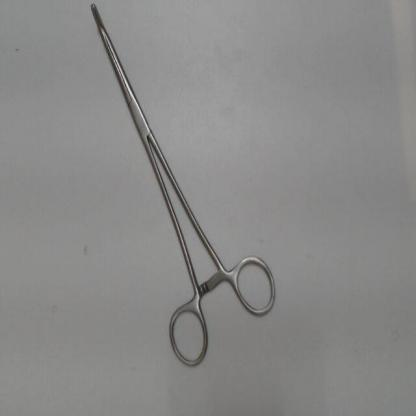Lahey Forceps: (83, 1, 280, 373)
